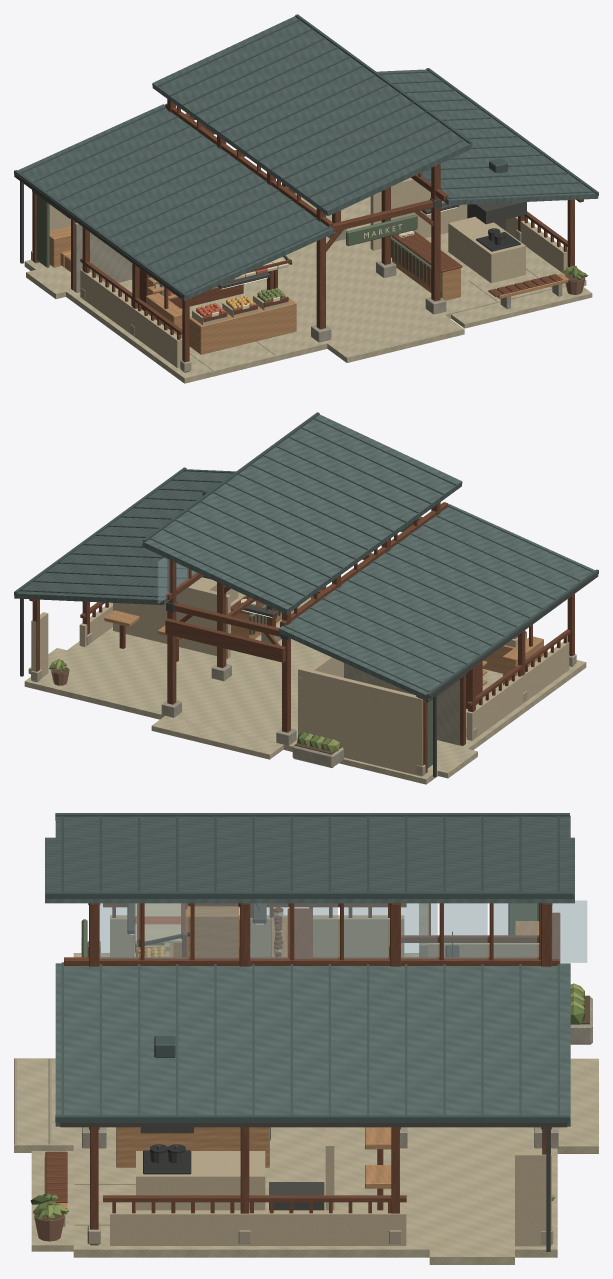
The model's file is west-bridge-market.glb.
The picture shows the model from 3 angles, top to bottom: view 1: azimuth 30°, elevation 25°; view 2: azimuth 150°, elevation 25°; view 3: azimuth 270°, elevation 25°; orthographic projection. The views are drawn at different scales.
Parts seen in each view (by area): view 1: High asymmetrical roof, West lower lean-to bay, Covered market floor, East lower lean-to bay, Provisions cooled counter, Low west wing facade, Cooking work bench, Front public entry tongue, Hot-food return wall, Front waiting wing, Backstock privacy wall, Low east wing facade (+22 smaller); view 2: High asymmetrical roof, West lower lean-to bay, Covered market floor, East lower lean-to bay, Rear west solid wall, Low west wing facade, Hot-food return wall, Rear approach landing, Rear high opening fascia, Backstock privacy wall, Longitudinal eave beam, Principal post.007 (+15 smaller); view 3: East lower lean-to bay, High asymmetrical roof, Covered market floor, West lower lean-to bay, Low east wing facade, Cooking work bench, Low west wing facade, Folded zinc edge.002, Longitudinal eave beam.001, Front public entry tongue, Folded zinc edge.001, Market hot-food pickup counter (+36 smaller).
Part boxes in pixels (x1,y1,x2,y2): High asymmetrical roof: (152,16,472,215); West lower lean-to bay: (14,104,333,300); Covered market floor: (24,195,586,383); East lower lean-to bay: (376,69,598,205); Provisions cooled counter: (189,295,296,354); Low west wing facade: (80,269,182,368); Cooking work bench: (448,216,525,283); Front public entry tongue: (327,315,464,362); Hot-food return wall: (370,177,467,250); Front waiting wing: (451,286,592,328); Backstock privacy wall: (73,222,132,292); Low east wing facade: (506,216,567,273); High asymmetrical roof: (142,414,462,614); West lower lean-to bay: (279,504,598,700); Covered market floor: (24,592,586,784); East lower lean-to bay: (14,469,235,604); Rear west solid wall: (298,667,422,776); Low west wing facade: (466,641,569,740); Hot-food return wall: (113,585,230,658); Rear approach landing: (151,716,283,759); Rear high opening fascia: (165,618,285,662); Backstock privacy wall: (344,663,463,746); Longitudinal eave beam: (280,502,448,626); Principal post.007: (167,559,176,704); East lower lean-to bay: (55,963,570,1126); High asymmetrical roof: (45,837,574,903); Covered market floor: (73,953,557,1257); West lower lean-to bay: (55,815,570,837); Low east wing facade: (110,1210,406,1245); Cooking work bench: (136,1151,265,1210); Low west wing facade: (110,915,404,957); Folded zinc edge.002: (45,891,573,898); Longitudinal eave beam.001: (64,957,559,965); Front public entry tongue: (14,1058,73,1152); Folded zinc edge.001: (55,1115,569,1122); Market hot-food pickup counter: (116,1127,269,1167).
Bounding box in the file's own units: 14.49 × 5.93 × 11.5.
Materials: 26 (6 with a texture image).
